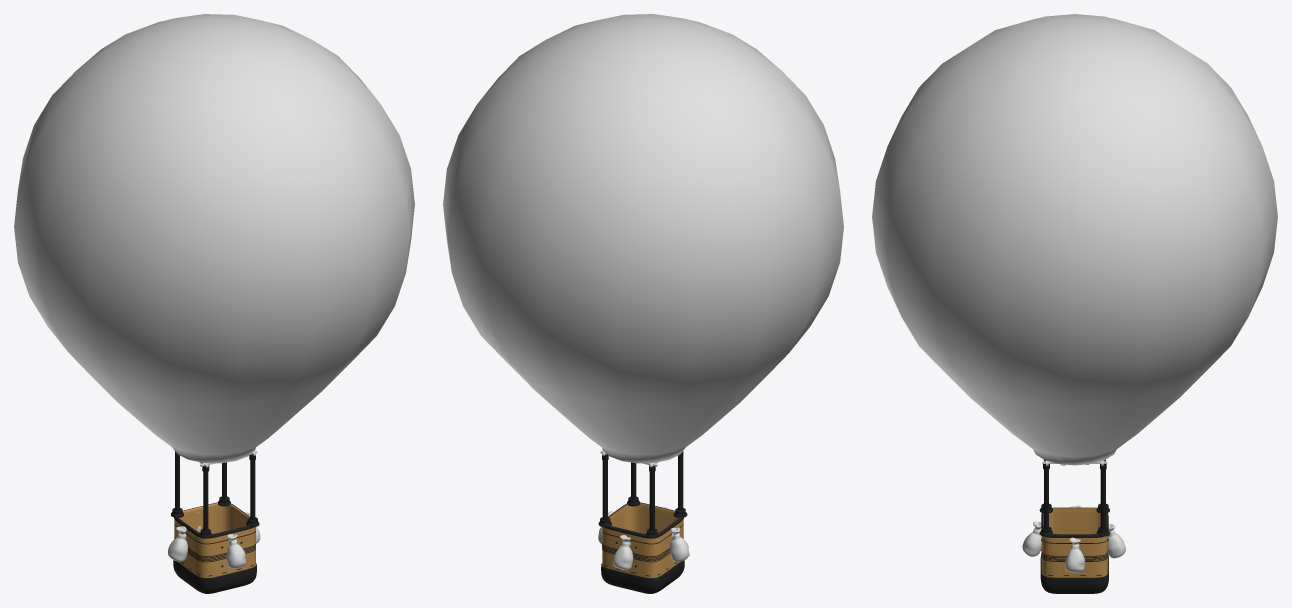
File: balloon.fbx
The picture shows the model from 3 angles, left to right: view 1: azimuth 30°, elevation 25°; view 2: azimuth 150°, elevation 25°; view 3: azimuth 270°, elevation 25°; orthographic projection.
Visible parts, largest first — view 1: Cube, Cube.001, Circle; view 2: Cube, Cube.001, Circle; view 3: Cube, Cube.001, Circle.
Boxes of the visible parts, box(x1,y1,x2,y2) form: Cube: box(14, 14, 414, 568); Cube.001: box(19, 15, 414, 463); Circle: box(171, 450, 259, 593); Cube: box(446, 17, 843, 570); Cube.001: box(443, 14, 833, 455); Circle: box(598, 450, 687, 593); Cube: box(883, 14, 1277, 572); Cube.001: box(872, 16, 1277, 465); Circle: box(1039, 460, 1109, 593).
Bounding box in the file's own units: 923 × 1382 × 923.
